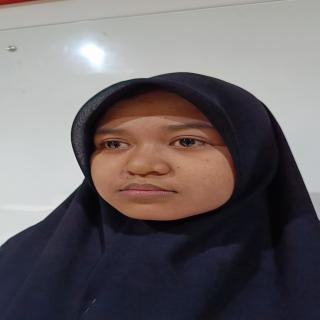Netral: (72, 71, 248, 230)
